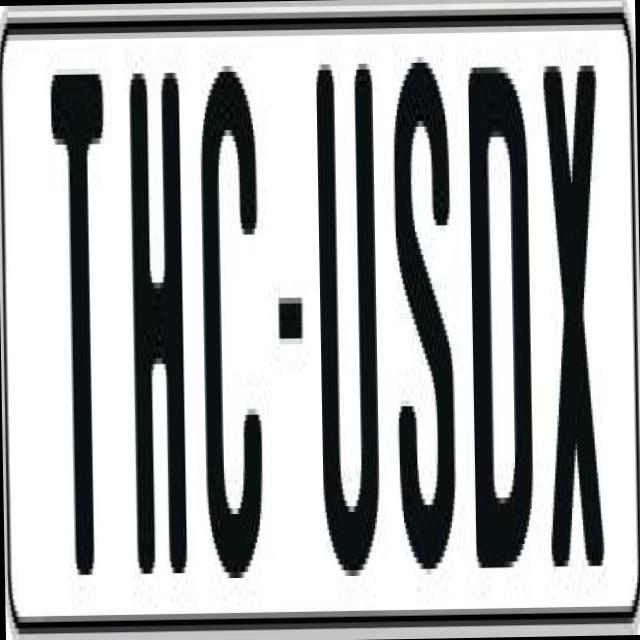C: (196, 70, 260, 596)
D: (464, 60, 536, 568)
H: (123, 55, 187, 568)
S: (392, 50, 459, 592)
T: (45, 56, 115, 575)
U: (312, 52, 379, 570)
X: (538, 48, 606, 560)
